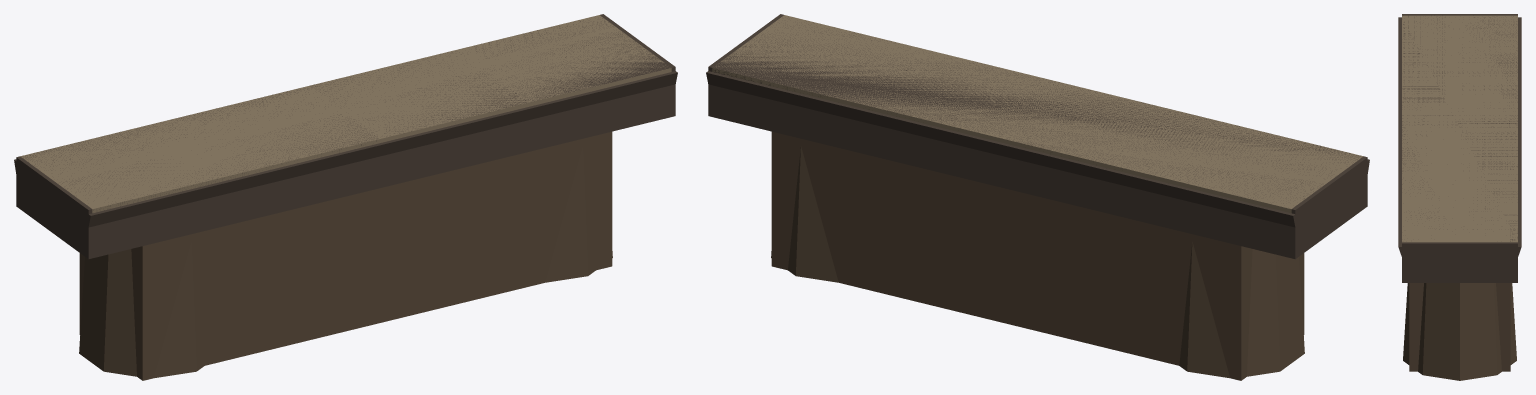
File: homestead_bench.glb
The picture shows the model from 3 angles, left to right: view 1: azimuth 30°, elevation 25°; view 2: azimuth 150°, elevation 25°; view 3: azimuth 270°, elevation 25°; orthographic projection. The views are drawn at different scales.
Visible parts, largest first — view 1: HomesteadBench_FarStumps, HomesteadBench_SeatTop, HomesteadBench_FarSeat, HomesteadBench_Seat, HomesteadBench_Stump-1, HomesteadBench_Stump1; view 2: HomesteadBench_FarStumps, HomesteadBench_SeatTop, HomesteadBench_FarSeat, HomesteadBench_Stump-1, HomesteadBench_Seat, HomesteadBench_Stump1; view 3: HomesteadBench_SeatTop, HomesteadBench_Stump1, HomesteadBench_Seat, HomesteadBench_FarSeat, HomesteadBench_FarStumps.
Boxes of the visible parts, box(x1,y1,x2,y2) form: HomesteadBench_FarStumps: box(79, 131, 612, 380); HomesteadBench_SeatTop: box(20, 15, 671, 212); HomesteadBench_FarSeat: box(16, 14, 675, 259); HomesteadBench_Seat: box(14, 71, 677, 239); HomesteadBench_Stump-1: box(79, 242, 204, 378); HomesteadBench_Stump1: box(545, 146, 612, 282); HomesteadBench_FarStumps: box(771, 131, 1304, 380); HomesteadBench_SeatTop: box(712, 15, 1362, 213); HomesteadBench_FarSeat: box(708, 14, 1367, 259); HomesteadBench_Stump-1: box(1179, 242, 1304, 378); HomesteadBench_Seat: box(706, 71, 1369, 240); HomesteadBench_Stump1: box(771, 146, 838, 282); HomesteadBench_SeatTop: box(1402, 15, 1517, 242); HomesteadBench_Stump1: box(1403, 283, 1516, 380); HomesteadBench_Seat: box(1398, 17, 1521, 282); HomesteadBench_FarSeat: box(1402, 14, 1517, 282); HomesteadBench_FarStumps: box(1409, 283, 1510, 371).
Bounding box in the file's own units: 1.5 × 0.46 × 0.34.
